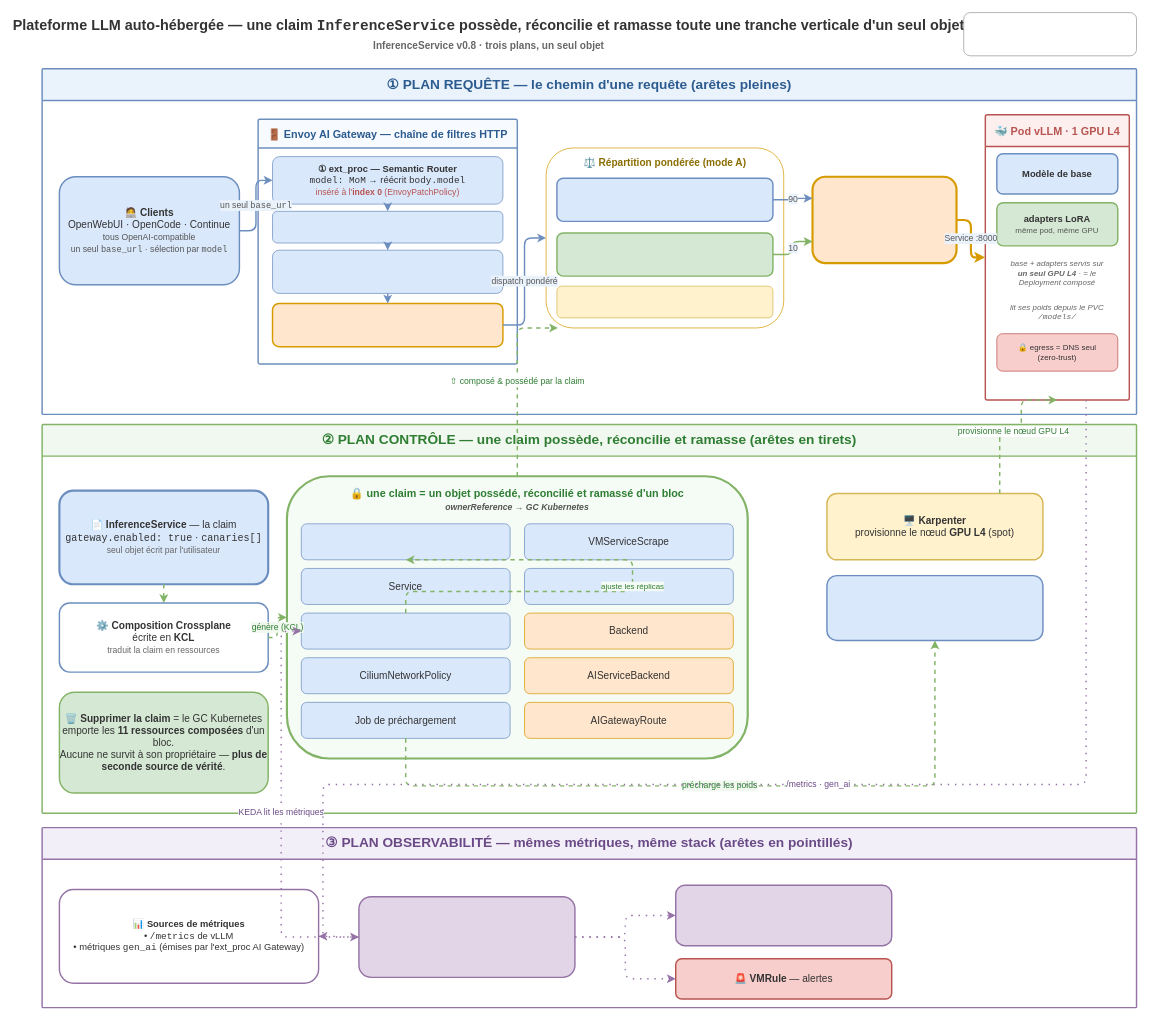
The diagram is 1149 pixels wide and 1021 high, and some of its shapes have lost their labels. The centre of each missing label's shape, as x and y in pixels:
"AIServiceBackend base — 90" belongs at [664,199].
"AIServiceBackend canary — 10 modelNameOverride" belongs at [664,254].
"Arêtes ──── requête ┄┄┄ contrôle ···· observabilité" belongs at [1050,34].
"Deployment vLLM" belongs at [405,541].
"ScaledObject (KEDA) lit VictoriaMetrics" belongs at [405,630].
"② ext_proc — AI Gateway dérive l'en-tête x-ai-eg-model depuis le corps" belongs at [387,271].
"🎯 Backend — un seul FQDN du Service · :8000 les 2 backendRefs pointent ici" belongs at [884,219].
"💾 PVC /models/ adossé à S3-Files · poids du modèle" belongs at [934,608].
"📈 VictoriaMetrics" belongs at [466,937].
"📉 Grafana dashboard llm-gateway" belongs at [783,915].
"📌 pin : nommer l'adapter → 100 %" belongs at [664,301].
"🔑 auth par clé d'API" belongs at [387,227].
"🧭 AIGatewayRoute match sur x-ai-eg-model" belongs at [387,324].
